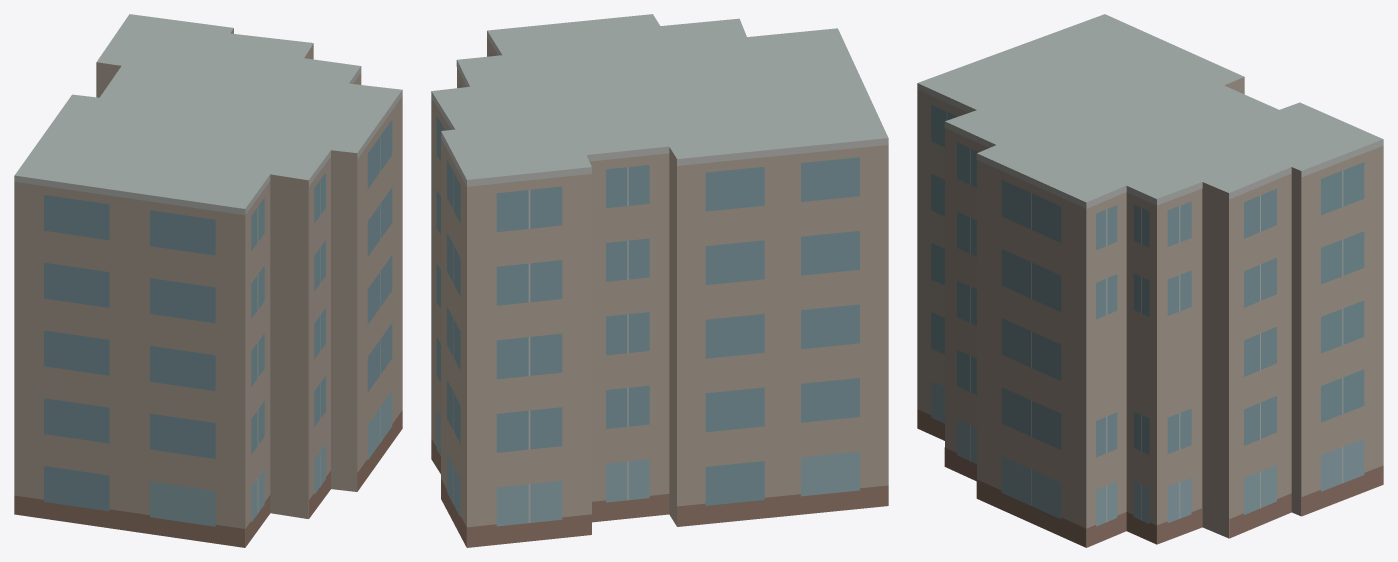
Rendered from survey-upis-33001743.glb.
3 views of the same model, side by side, from view 1: azimuth 30°, elevation 25°; view 2: azimuth 150°, elevation 25°; view 3: azimuth 270°, elevation 25° (orthographic). The views are drawn at different scales.
Visible parts, largest first — view 1: survey-upis-33001743.tmp; view 2: survey-upis-33001743.tmp; view 3: survey-upis-33001743.tmp.
Boxes of the visible parts, left/top/right/bottom form: survey-upis-33001743.tmp: left=14, top=14, right=402, bottom=547; survey-upis-33001743.tmp: left=431, top=14, right=888, bottom=547; survey-upis-33001743.tmp: left=917, top=14, right=1383, bottom=547.
Size of the model in its own units: 15.46 by 13.2 by 16.16.
